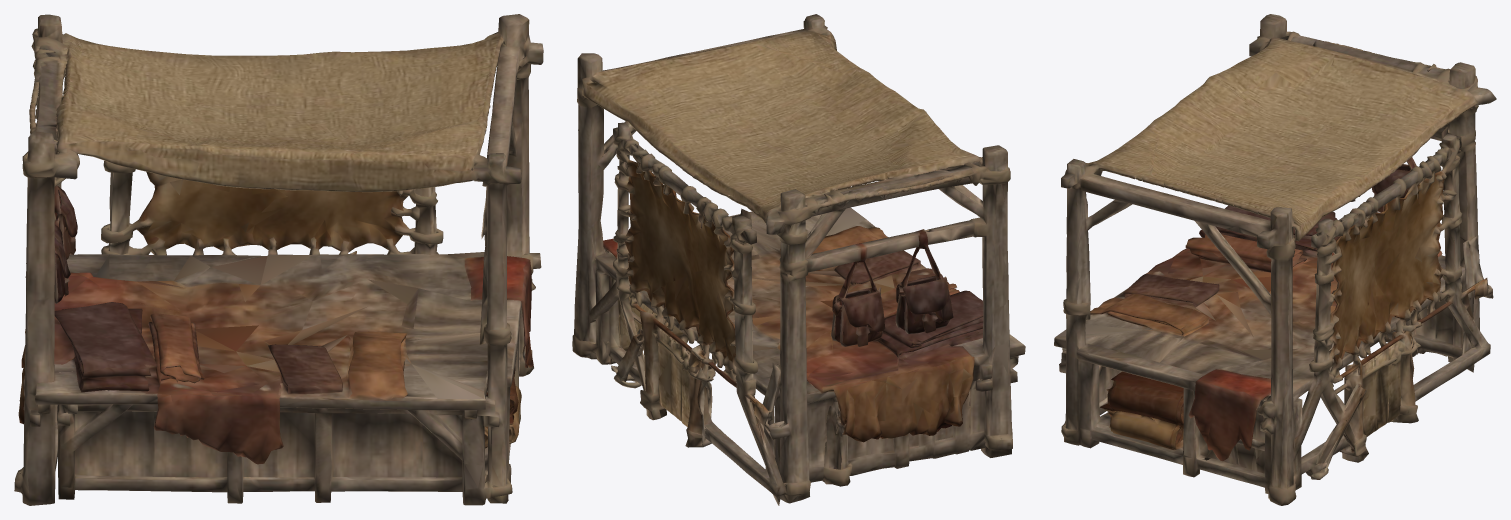
File: tanner-market-stall-pixal3d-runtime.glb
The picture shows the model from 3 angles, left to right: view 1: azimuth 30°, elevation 25°; view 2: azimuth 150°, elevation 25°; view 3: azimuth 270°, elevation 25°; orthographic projection. The views are drawn at different scales.
Parts seen in each view (by area): view 1: geometry_0; view 2: geometry_0; view 3: geometry_0.
Boxes of the visible parts, left/top/right/bottom form: geometry_0: left=14, top=14, right=543, bottom=505; geometry_0: left=572, top=14, right=1025, bottom=505; geometry_0: left=1054, top=14, right=1496, bottom=505.
Size of the model in its own units: 4.13 by 2.8 by 3.71.
Materials: 1 (1 with a texture image).
